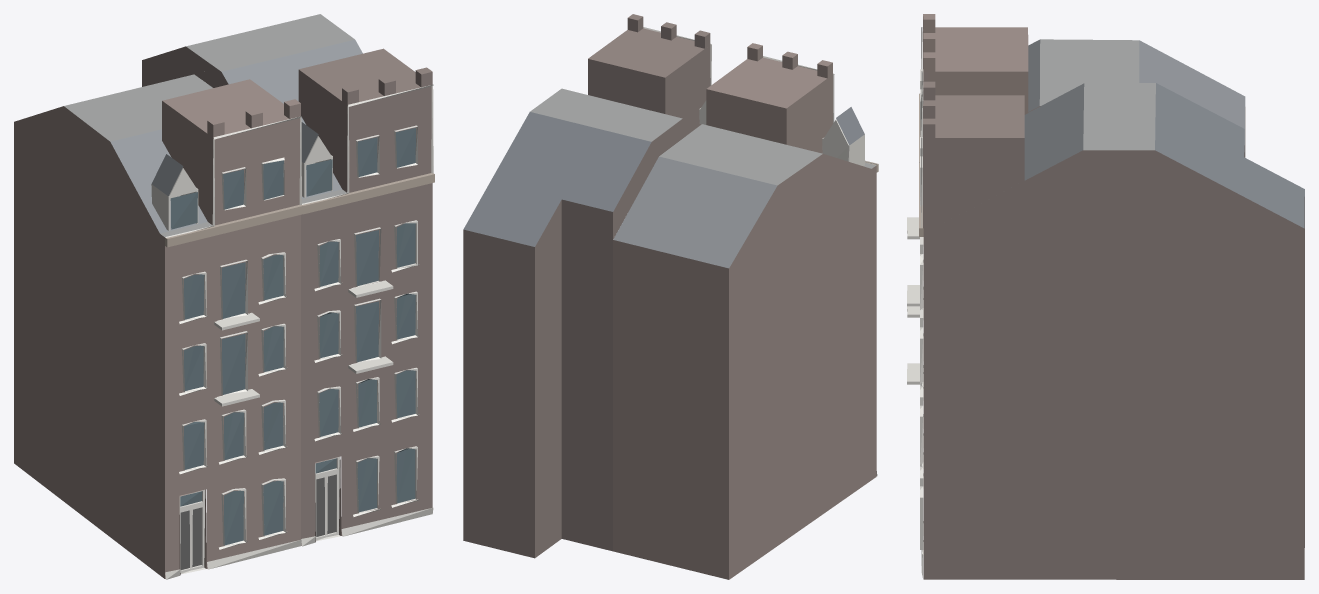
Rendered from chunk-face-helmers-32-66-r1.lod2.glb.
3 views of the same model, side by side, from view 1: azimuth 30°, elevation 25°; view 2: azimuth 150°, elevation 25°; view 3: azimuth 270°, elevation 25° (orthographic). The views are drawn at different scales.
Parts seen in each view (by area): view 1: lod2; view 2: lod2; view 3: lod2.
Part boxes in pixels (x1=…): lod2: x1=14, y1=14, x2=434, y2=579; lod2: x1=463, y1=14, x2=878, y2=579; lod2: x1=907, y1=14, x2=1304, y2=579.
Size of the model in its own units: 11.81 by 18.63 by 14.74.
